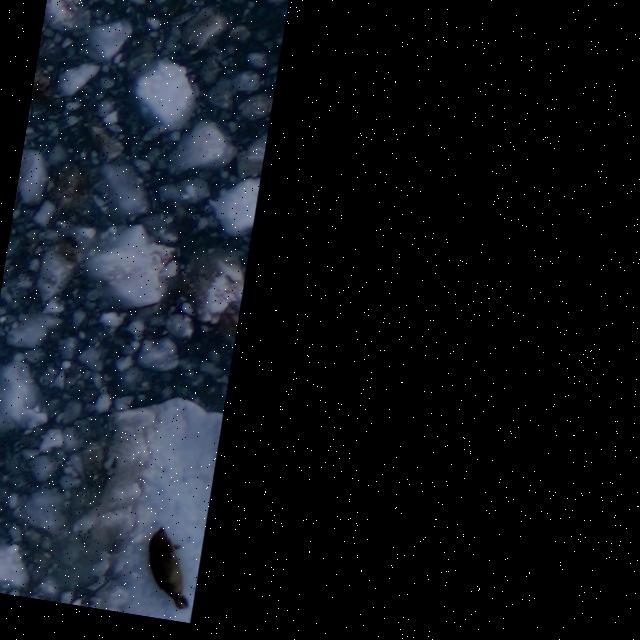seal: (136, 518, 203, 615)
